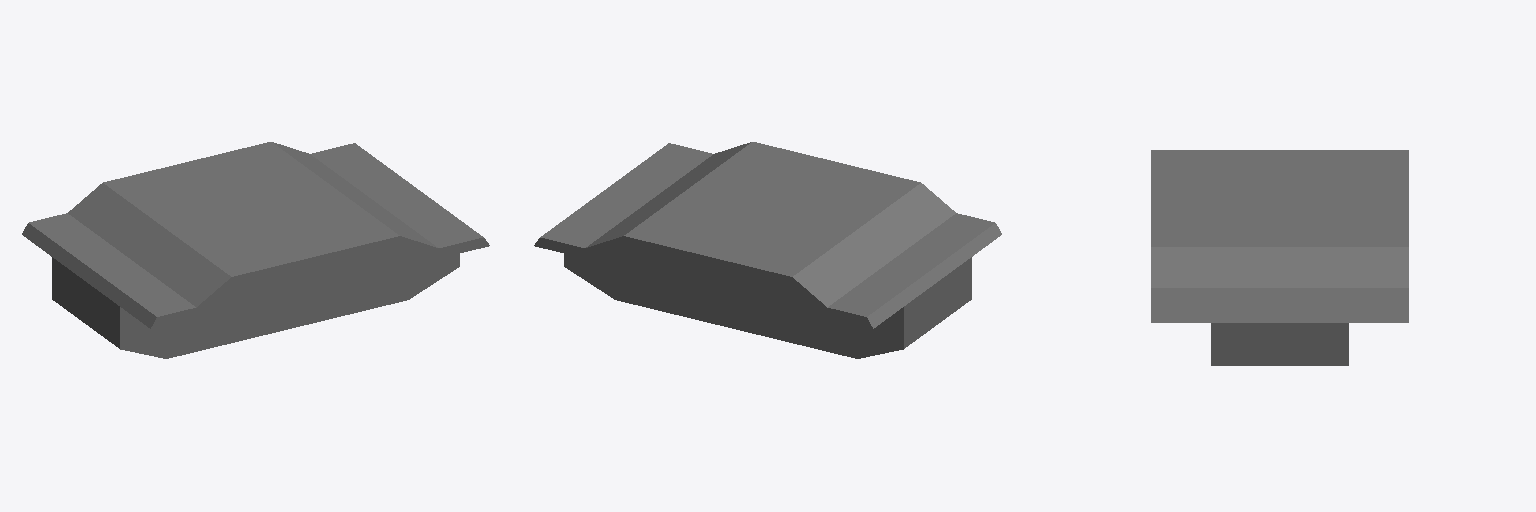
The model's file is Tank Lower Base.obj.
3 views of the same model, side by side, from view 1: azimuth 30°, elevation 25°; view 2: azimuth 150°, elevation 25°; view 3: azimuth 270°, elevation 25° (orthographic).
Visible parts, largest first — view 1: Tank Lower Base; view 2: Tank Lower Base; view 3: Tank Lower Base.
Boxes of the visible parts, x1=… form: Tank Lower Base: x1=22, y1=142, x2=489, y2=358; Tank Lower Base: x1=534, y1=142, x2=1001, y2=358; Tank Lower Base: x1=1151, y1=150, x2=1408, y2=365.
Bounding box in the file's own units: 3.46 × 0.93 × 2.27.